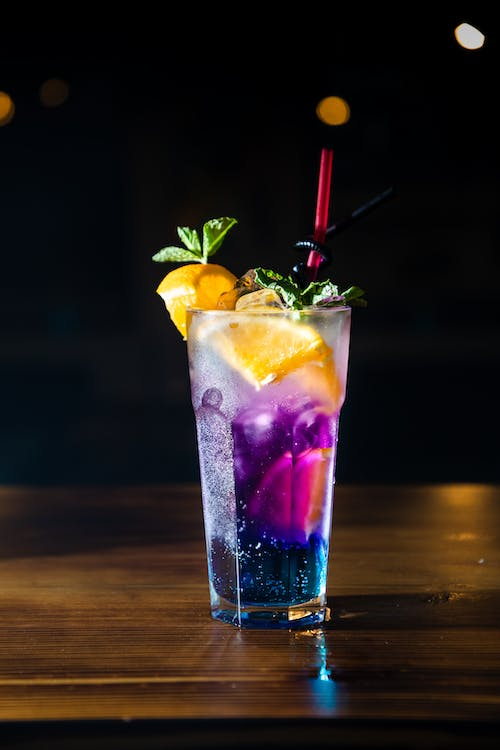alcohol: (184, 302, 353, 631)
